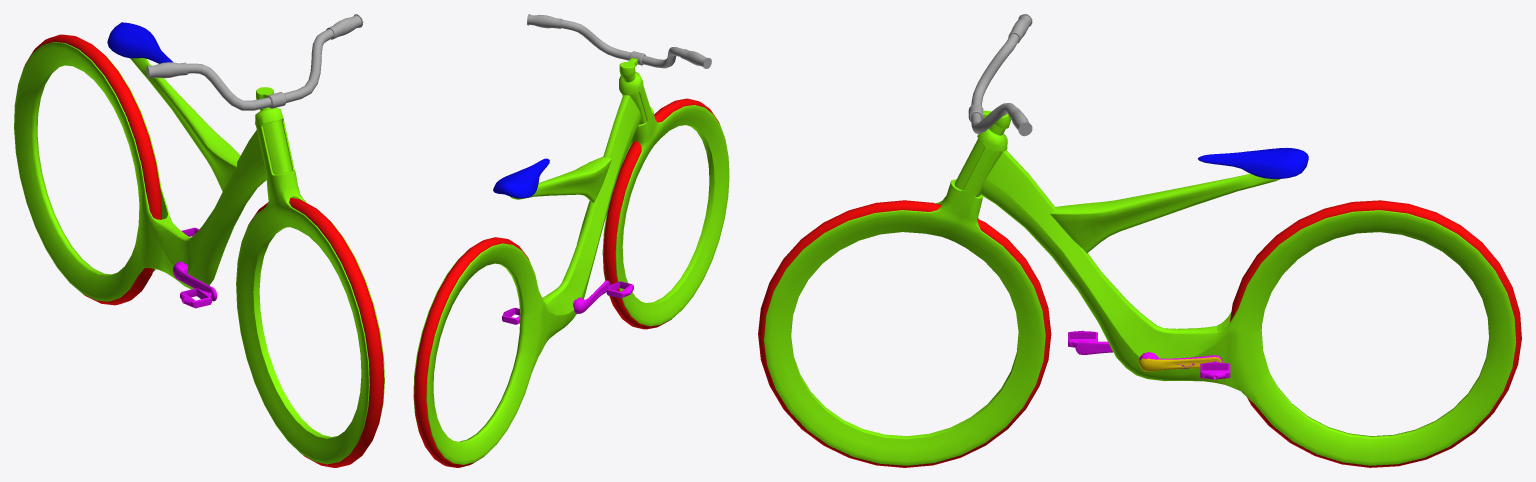
The model's file is Velo_05.FBX.
The picture shows the model from 3 angles, left to right: view 1: azimuth 30°, elevation 25°; view 2: azimuth 150°, elevation 25°; view 3: azimuth 270°, elevation 25°; orthographic projection. The views are drawn at different scales.
Parts seen in each view (by area): view 1: Velo, Cadre_Roue_Avant, O_Pneu_Avant, O_Pneu_Arriere, Guidon_04, O_Pedale-D; view 2: Velo, Cadre_Roue_Avant, O_Pneu_Arriere, O_Pneu_Avant, Guidon_04, O_Pedale-D; view 3: Velo, Cadre_Roue_Avant, O_Pneu_Avant, O_Pneu_Arriere, Guidon_04, O_Levier-D001+PedaleG, O_Pedale-D.
Part boxes in pixels (left/top/right/bottom): Velo: left=14, top=22, right=292, bottom=301; Cadre_Roue_Avant: left=236, top=107, right=384, bottom=464; O_Pneu_Avant: left=248, top=198, right=384, bottom=467; O_Pneu_Arriere: left=24, top=34, right=161, bottom=305; Guidon_04: left=146, top=14, right=363, bottom=110; O_Pedale-D: left=173, top=261, right=217, bottom=308; Velo: left=413, top=92, right=646, bottom=464; Cadre_Roue_Avant: left=602, top=71, right=729, bottom=326; O_Pneu_Arriere: left=414, top=237, right=528, bottom=467; O_Pneu_Avant: left=603, top=98, right=719, bottom=329; Guidon_04: left=527, top=14, right=711, bottom=68; O_Pedale-D: left=573, top=280, right=633, bottom=313; Velo: left=955, top=138, right=1516, bottom=465; Cadre_Roue_Avant: left=764, top=124, right=1045, bottom=465; O_Pneu_Avant: left=758, top=200, right=1051, bottom=467; O_Pneu_Arriere: left=1230, top=200, right=1521, bottom=467; Guidon_04: left=971, top=14, right=1032, bottom=136; O_Levier-D001+PedaleG: left=1138, top=352, right=1230, bottom=379; O_Pedale-D: left=1068, top=330, right=1112, bottom=354.
Size of the model in its own units: 52.48 by 88.47 by 153.
